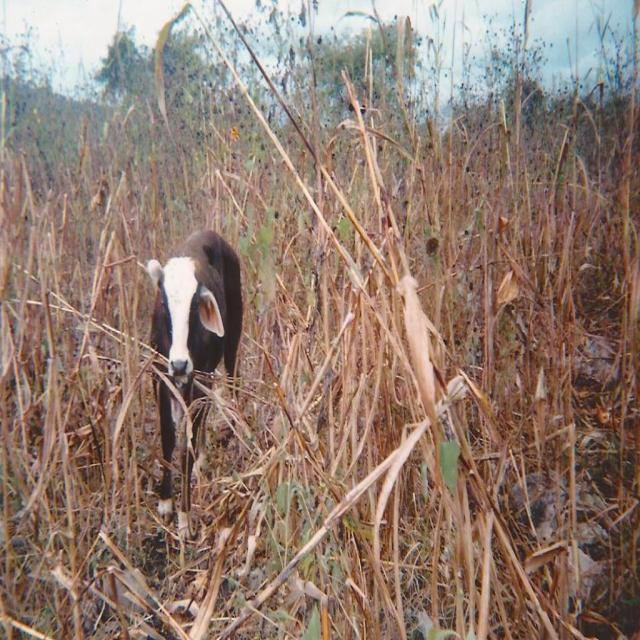cow: (146, 230, 242, 536)
